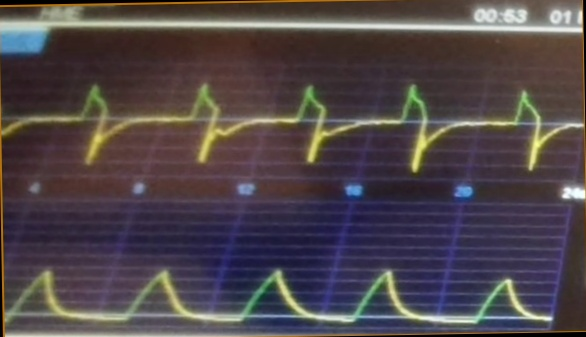Premature_cycling Flow: (1, 74, 583, 173)
Premature_cycling Volume: (7, 240, 551, 329)
